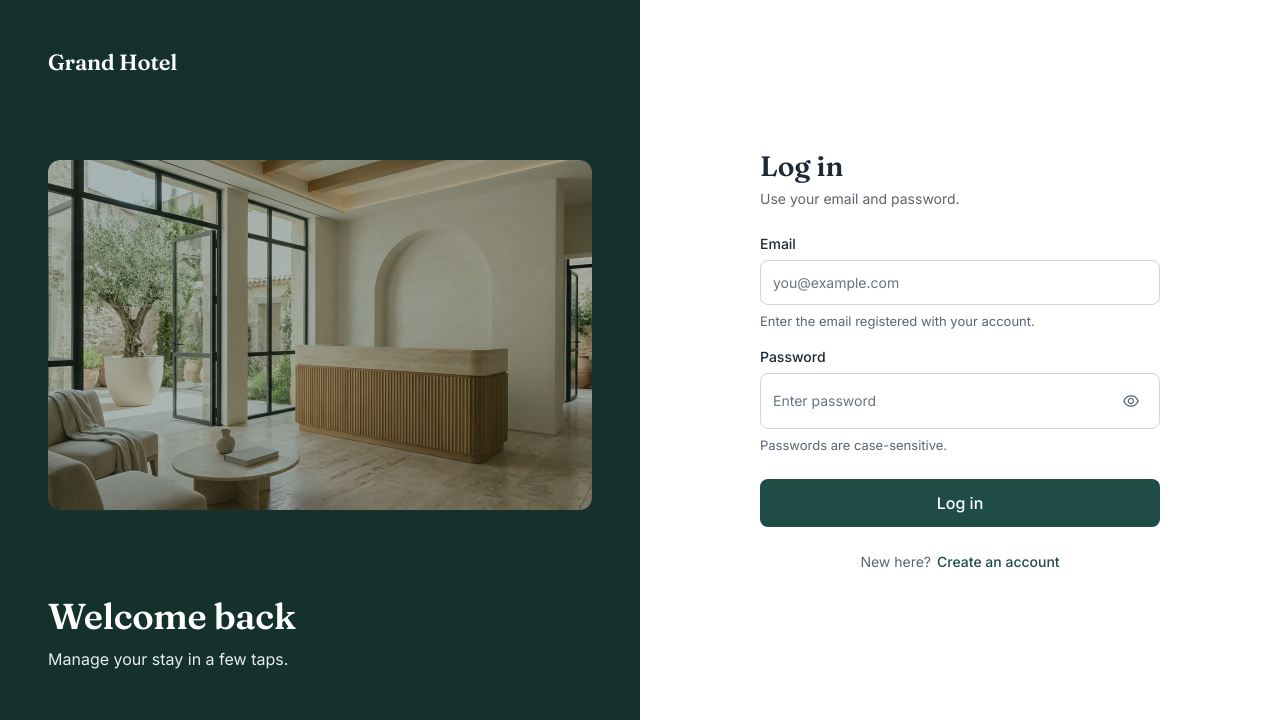
Scenario: LoginForm › shows inline Alert when credentials are incorrect
Type "guest@example.com" into the field labelled "Email" at coordinates (960, 282), box x1=760 y1=260 x2=1160 y2=304
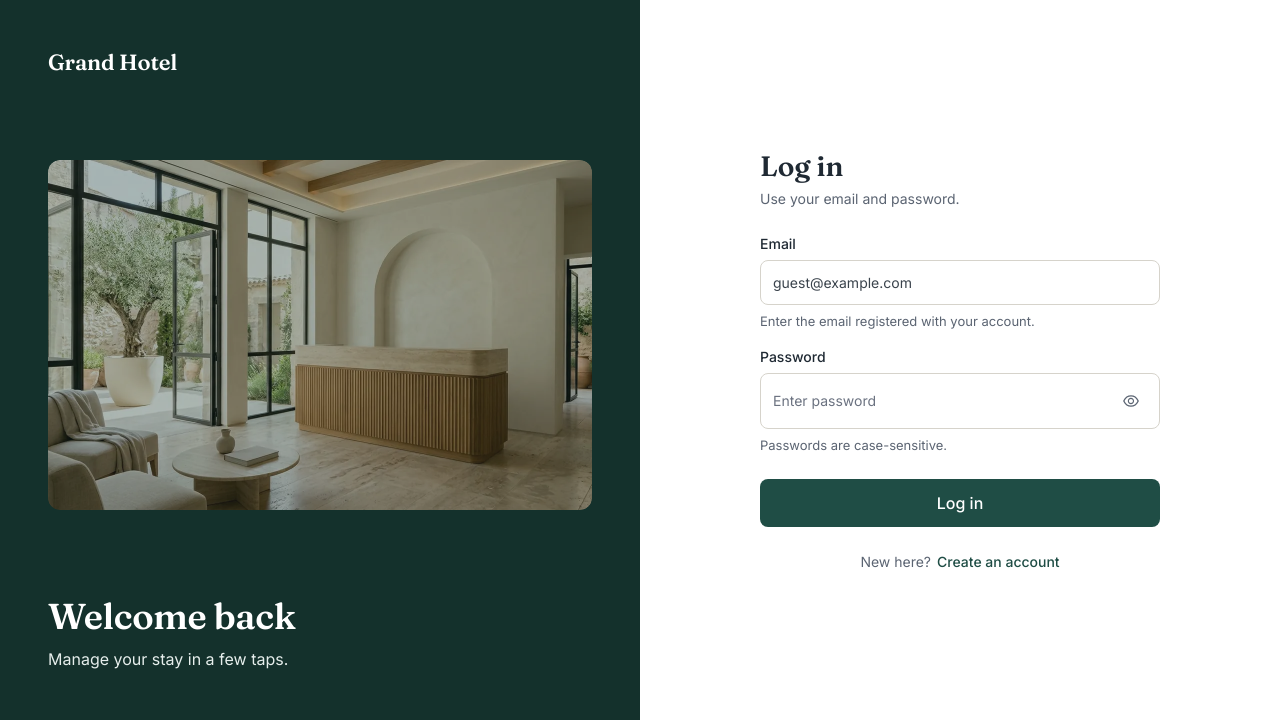
Type "WrongPass123" into the password field labelled "Password" at coordinates (942, 400), box x1=773 y1=384 x2=1111 y2=416
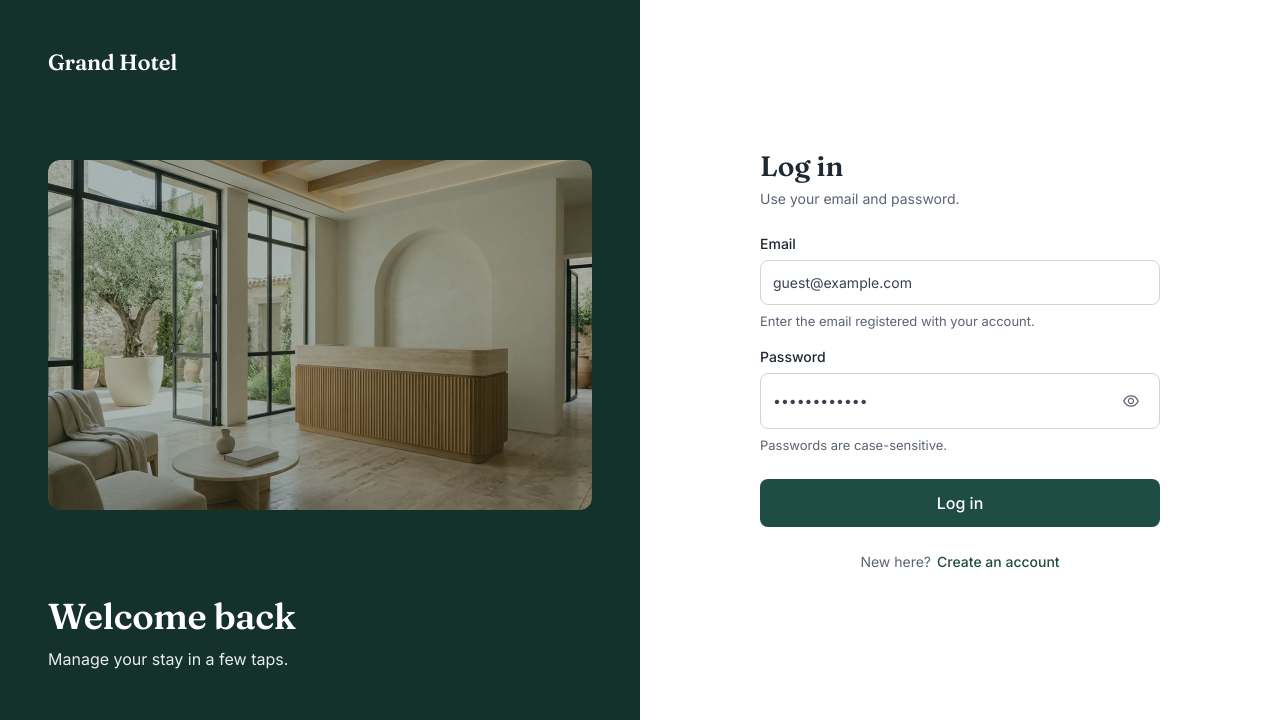
Click the button "Log in" at coordinates (960, 502), box x1=760 y1=478 x2=1160 y2=526
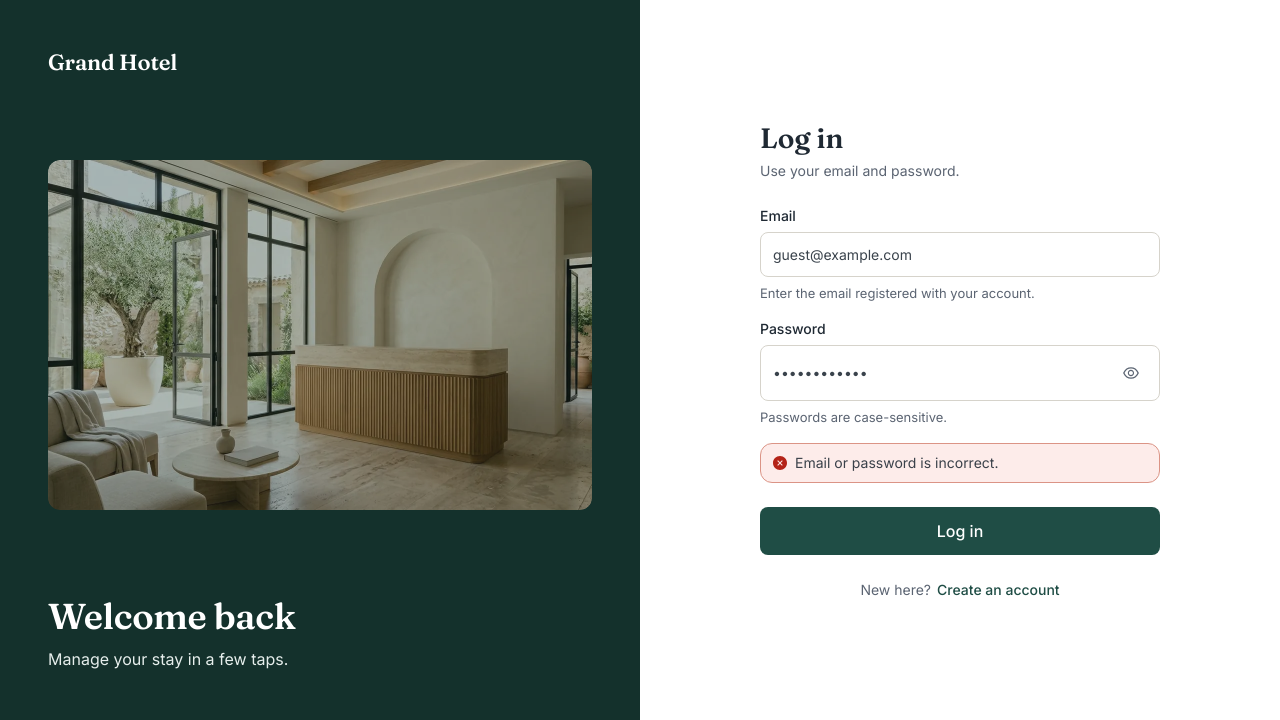
Expected: the text "Email or password is incorrect." is shown, x1=795 y1=454 x2=998 y2=470
